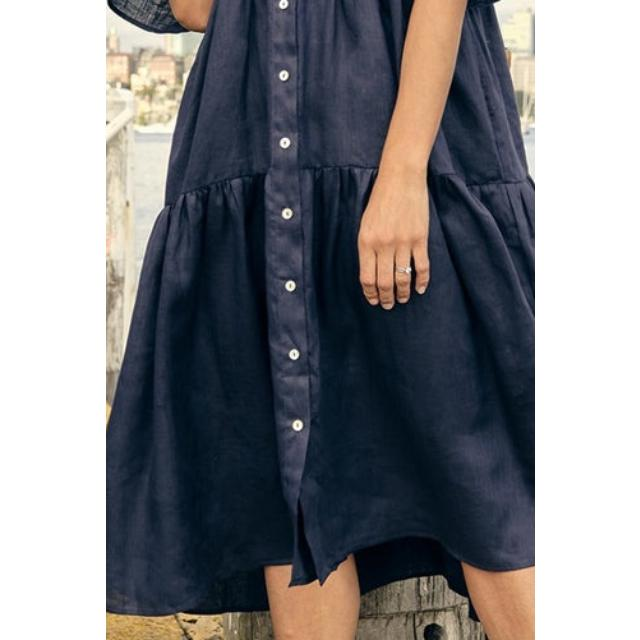linen: (106, 0, 534, 596)
